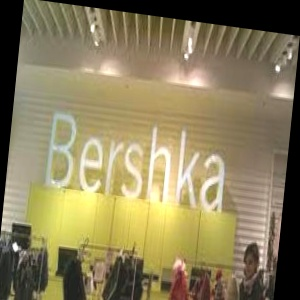bershka: (213, 75, 257, 176)
